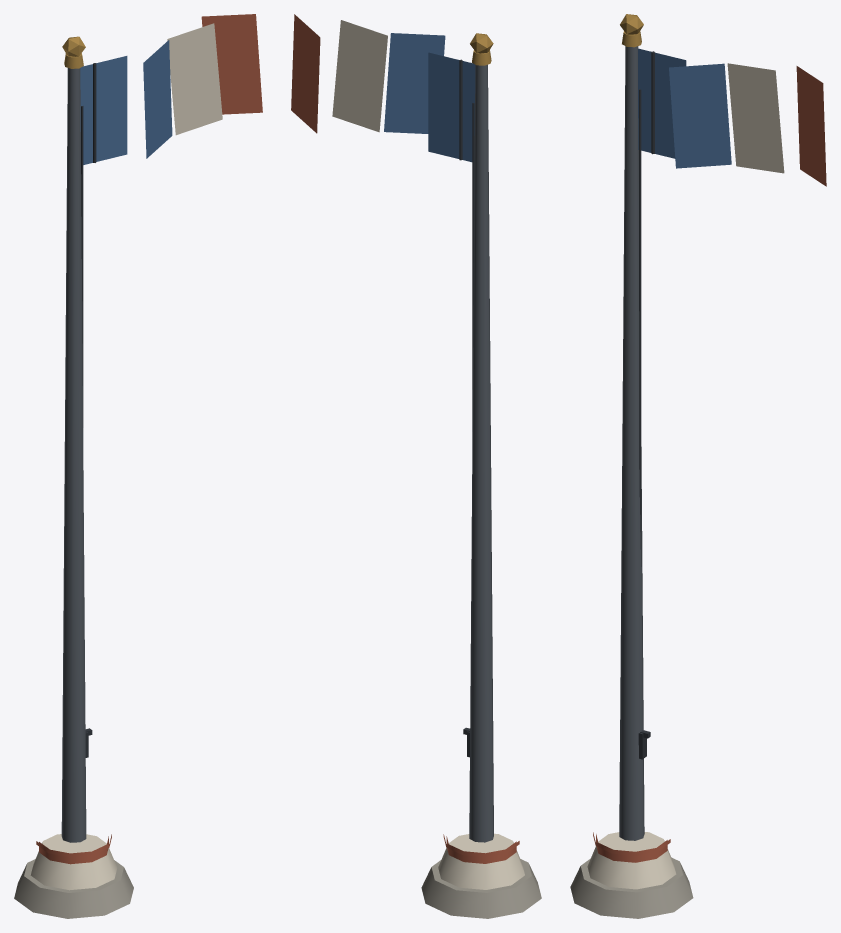
The model's file is flagpole.glb.
The picture shows the model from 3 angles, left to right: view 1: azimuth 30°, elevation 25°; view 2: azimuth 150°, elevation 25°; view 3: azimuth 330°, elevation 25°; orthographic projection. The views are drawn at different scales.
Visible parts, largest first — view 1: Merged_city-metal, Merged_flag-blue, Merged_flag-cream, Merged_flag-terracotta, Merged_city-curb, Merged_prop-body-light, Merged_city-metal-dark, Merged_prop-accent, Merged_city-brass; view 2: Merged_city-metal, Merged_flag-blue, Merged_flag-cream, Merged_city-curb, Merged_prop-body-light, Merged_flag-terracotta, Merged_city-metal-dark, Merged_prop-accent, Merged_city-brass; view 3: Merged_city-metal, Merged_flag-blue, Merged_flag-cream, Merged_city-curb, Merged_prop-body-light, Merged_flag-terracotta, Merged_city-metal-dark, Merged_prop-accent, Merged_city-brass.
Part boxes in pixels (x1,y1,x2,y2): Merged_city-metal: [61, 68, 86, 842]; Merged_flag-blue: [80, 40, 172, 164]; Merged_flag-cream: [167, 23, 222, 135]; Merged_flag-terracotta: [201, 14, 262, 114]; Merged_city-curb: [14, 859, 133, 918]; Merged_prop-body-light: [30, 834, 117, 890]; Merged_city-metal-dark: [81, 63, 96, 757]; Merged_prop-accent: [36, 834, 111, 864]; Merged_city-brass: [62, 36, 85, 68]; Merged_city-metal: [469, 64, 493, 842]; Merged_flag-blue: [384, 33, 475, 162]; Merged_flag-cream: [332, 20, 387, 132]; Merged_city-curb: [421, 859, 541, 918]; Merged_prop-body-light: [438, 833, 524, 889]; Merged_flag-terracotta: [291, 14, 320, 133]; Merged_city-metal-dark: [459, 59, 474, 757]; Merged_prop-accent: [443, 834, 519, 863]; Merged_city-brass: [470, 33, 493, 65]; Merged_city-metal: [619, 46, 644, 840]; Merged_flag-blue: [638, 48, 731, 168]; Merged_flag-cream: [727, 63, 784, 173]; Merged_city-curb: [570, 857, 693, 918]; Merged_prop-body-light: [587, 832, 676, 889]; Merged_flag-terracotta: [796, 66, 826, 186]; Merged_city-metal-dark: [638, 51, 654, 759]; Merged_prop-accent: [593, 832, 670, 862]; Merged_city-brass: [620, 14, 643, 47].
Size of what is drawn, in the model's own units: 1.63 by 5.54 by 0.72.
